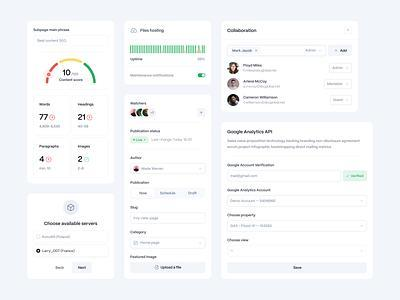button: (227, 262, 368, 276), (133, 263, 207, 275), (155, 188, 181, 202), (180, 188, 206, 201), (131, 188, 156, 200), (329, 46, 354, 57), (72, 263, 94, 274), (53, 263, 69, 274)
dropdown: (228, 222, 367, 235), (228, 247, 368, 259), (228, 197, 368, 208), (131, 239, 207, 251), (130, 164, 207, 175), (323, 81, 353, 90), (331, 97, 353, 106), (329, 65, 353, 73)
icon: (197, 110, 206, 118)
input: (226, 170, 342, 184), (132, 213, 207, 227), (229, 47, 328, 57)
label: (41, 221, 103, 228), (127, 73, 179, 81), (225, 187, 274, 195), (227, 212, 257, 221), (130, 128, 163, 136), (130, 254, 159, 262), (225, 236, 254, 243), (129, 178, 151, 186), (43, 235, 72, 241), (43, 250, 77, 255), (128, 102, 151, 109), (131, 227, 147, 237), (128, 204, 142, 212), (130, 156, 146, 162)
radio: (36, 235, 42, 241), (36, 249, 42, 255)
switch: (197, 74, 207, 80)
